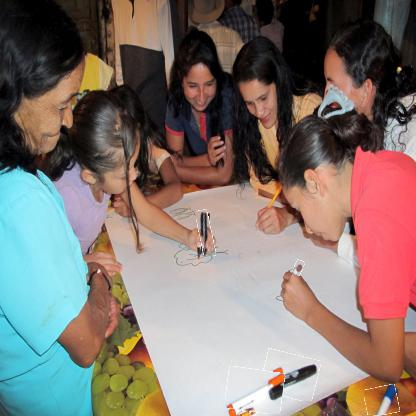Pen: (261, 351, 319, 400), (225, 368, 284, 414), (363, 385, 399, 415), (197, 210, 213, 257), (293, 260, 303, 277)
